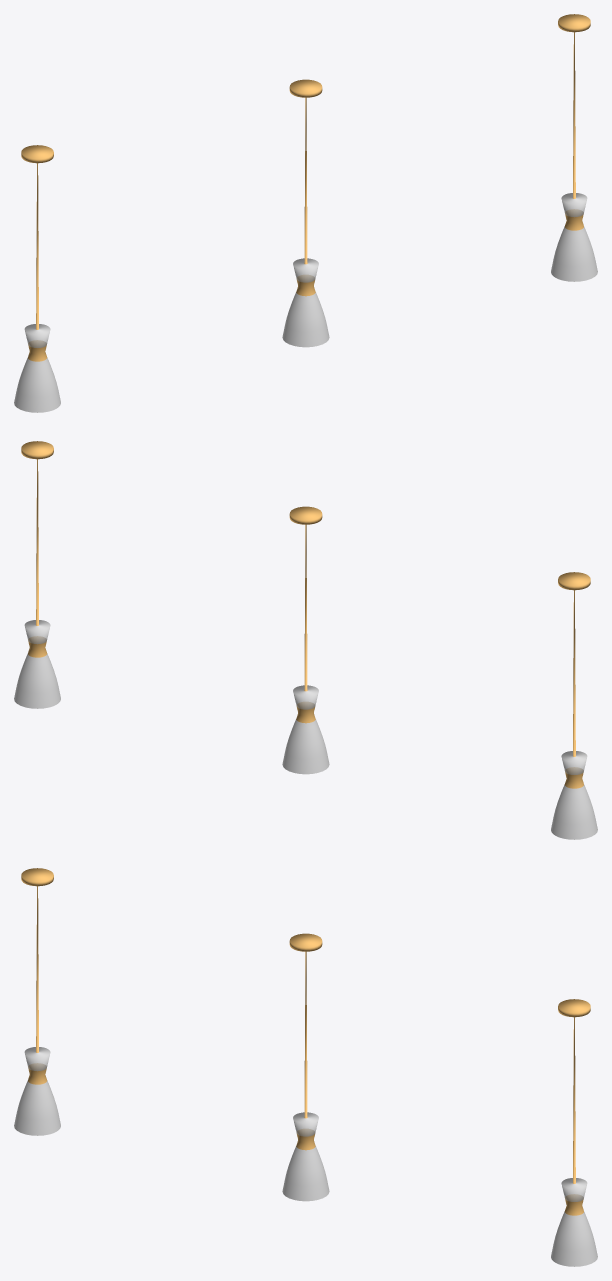
Rendered from Light_HeathWhite_Brass.glb.
3 views of the same model, one above another, from view 1: azimuth 30°, elevation 25°; view 2: azimuth 150°, elevation 25°; view 3: azimuth 330°, elevation 25° (orthographic).
Parts seen in each view (by area): view 1: HeathWhite/Brass; view 2: HeathWhite/Brass; view 3: HeathWhite/Brass.
Part boxes in pixels (x1,y1,x2,y2): HeathWhite/Brass: (14, 14, 597, 412); HeathWhite/Brass: (14, 441, 597, 839); HeathWhite/Brass: (14, 868, 597, 1266).
Bounding box in the file's own units: 3.89 × 1.61 × 0.275.
